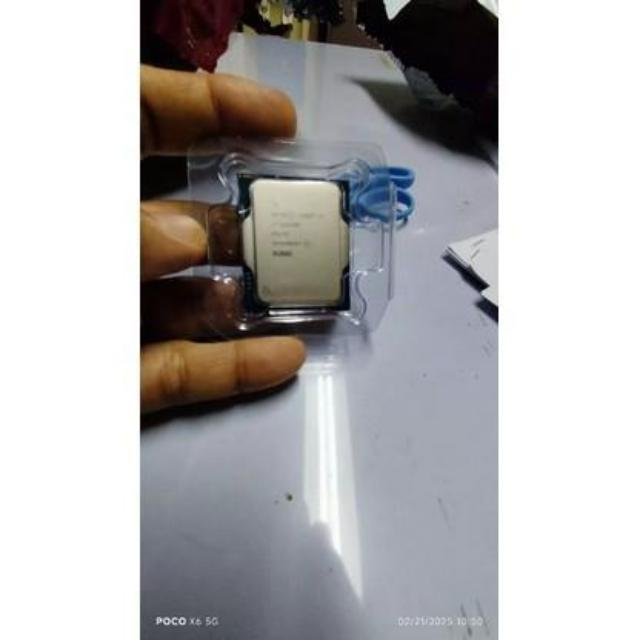CPU: (242, 175, 352, 312)
